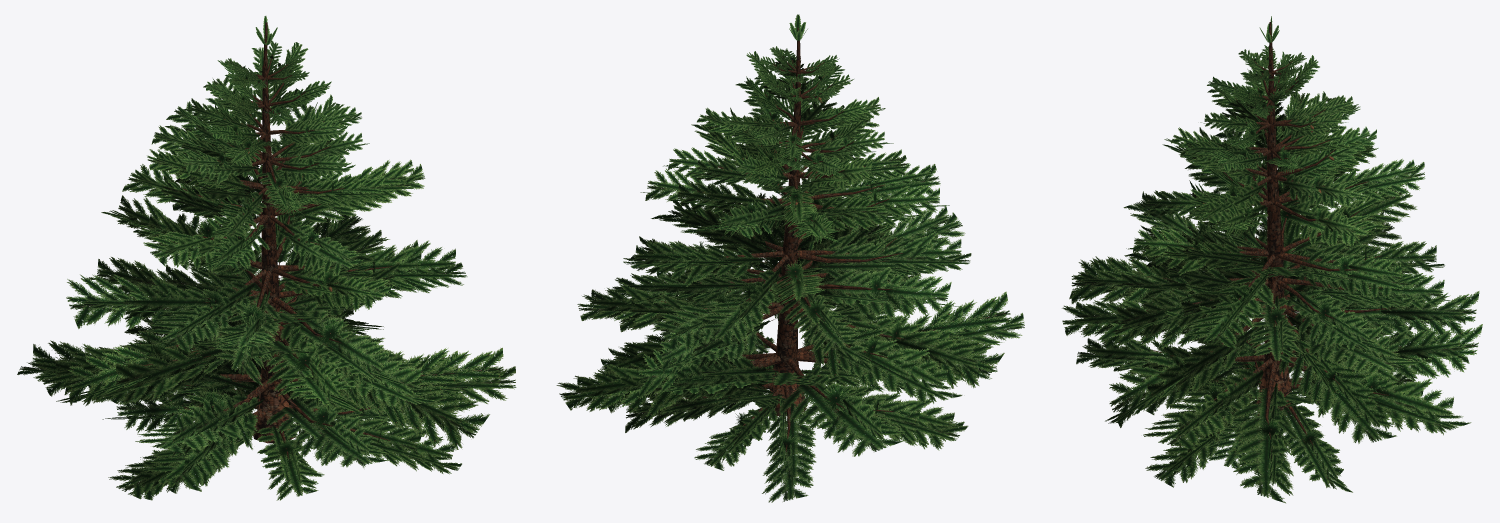
The model's file is pine-dense-mid.glb.
3 views of the same model, side by side, from view 1: azimuth 30°, elevation 25°; view 2: azimuth 150°, elevation 25°; view 3: azimuth 270°, elevation 25° (orthographic). The views are drawn at different scales.
Parts seen in each view (by area): view 1: pine_dense_mid; view 2: pine_dense_mid; view 3: pine_dense_mid.
Part boxes in pixels (x1,y1,x2,y2): pine_dense_mid: (17, 16, 516, 500); pine_dense_mid: (556, 14, 1024, 502); pine_dense_mid: (1062, 16, 1482, 503).
Size of the model in its own units: 13.57 by 14.13 by 13.11.
Materials: 1 (1 with a texture image).
